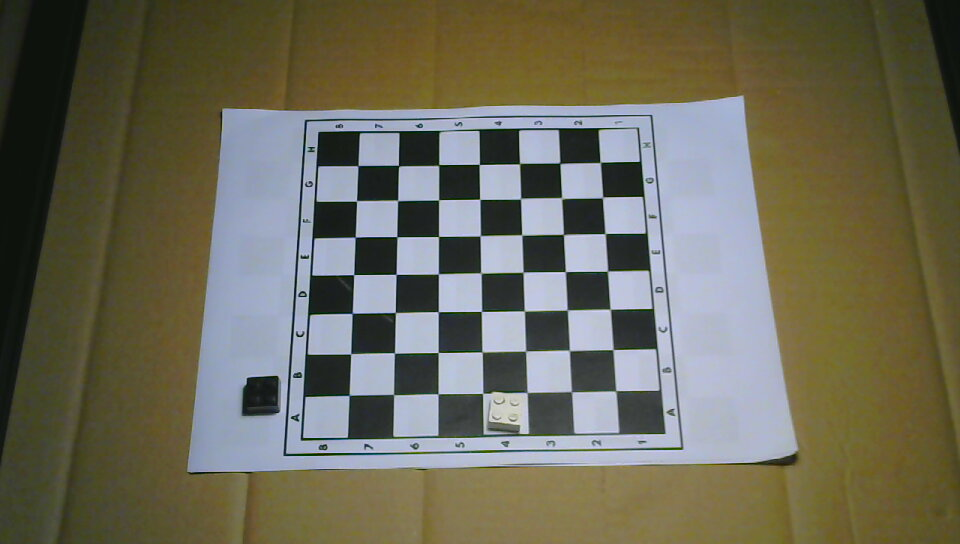bp: (244, 375, 281, 413)
wp: (486, 390, 524, 432)
